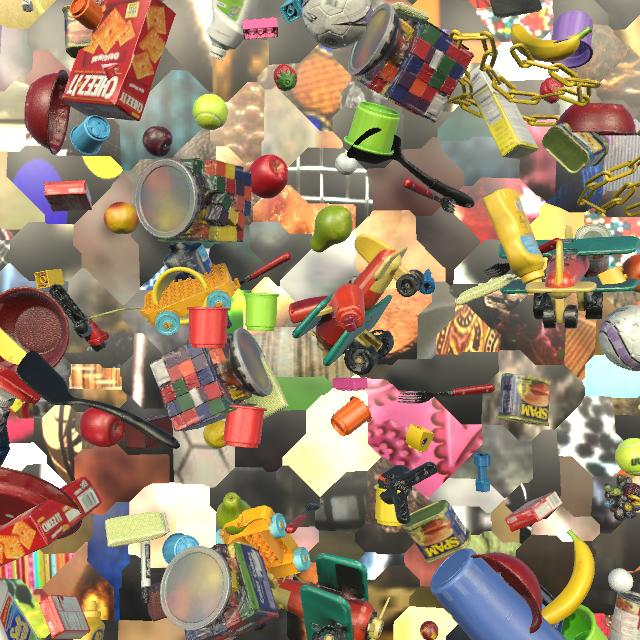ycb_003_cracker_box: (61, 0, 176, 121), (0, 476, 102, 567)
ycb_004_sugar_box: (464, 65, 539, 160), (0, 328, 27, 413)
ycb_005_tomato_soup_can: (575, 223, 612, 277), (608, 591, 640, 640)
ycb_006_mustard_bottle: (483, 189, 545, 285), (73, 600, 105, 640)
ycb_009_gelatin_box: (504, 491, 563, 532), (39, 595, 91, 639), (44, 180, 92, 212), (101, 63, 119, 80)
ycb_010_potted_meat_can: (404, 500, 471, 563), (542, 122, 609, 174), (496, 373, 551, 426), (62, 2, 101, 59)
ycb_011_banana: (541, 530, 595, 625), (510, 23, 592, 62)
ycb_012_strawberry: (539, 77, 564, 104), (273, 64, 297, 91)
ycb_013_apple: (247, 154, 289, 199), (80, 408, 125, 447)
ycb_014_lemon: (203, 420, 226, 449)
ycb_015_peach: (104, 202, 140, 234)
ycb_016_pear: (310, 205, 352, 253), (216, 492, 251, 535)
ycb_017_orange: (622, 254, 640, 293), (0, 577, 2, 581)
ycb_018_plum: (142, 126, 173, 157)
